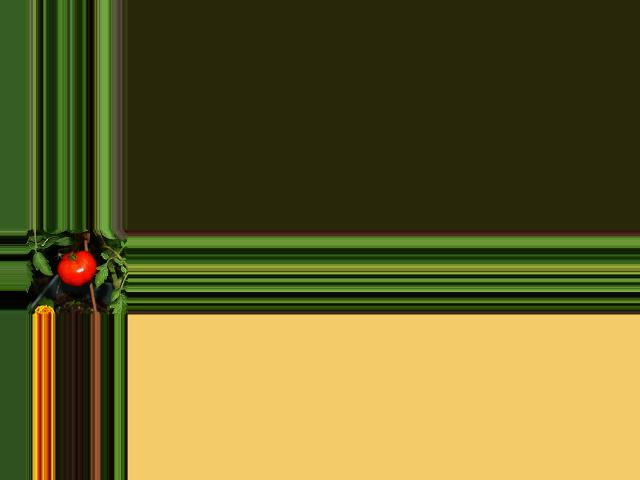tomato: (57, 250, 98, 286)
